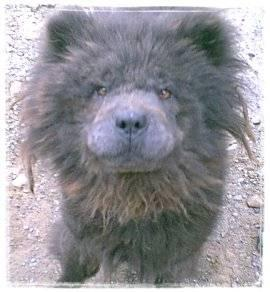dog: (22, 11, 254, 283)
